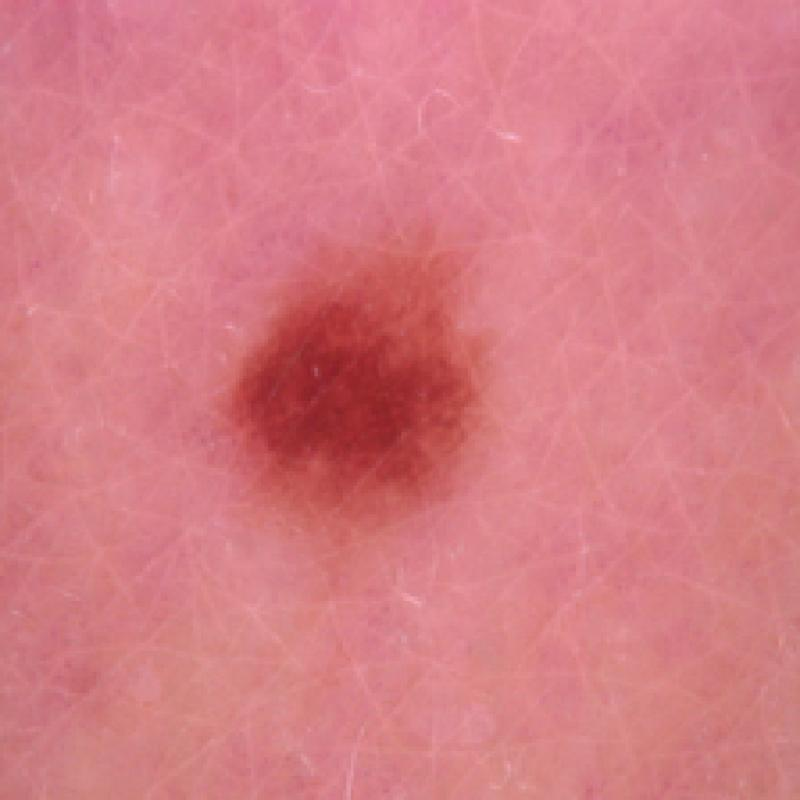benign: (208, 238, 512, 516)
